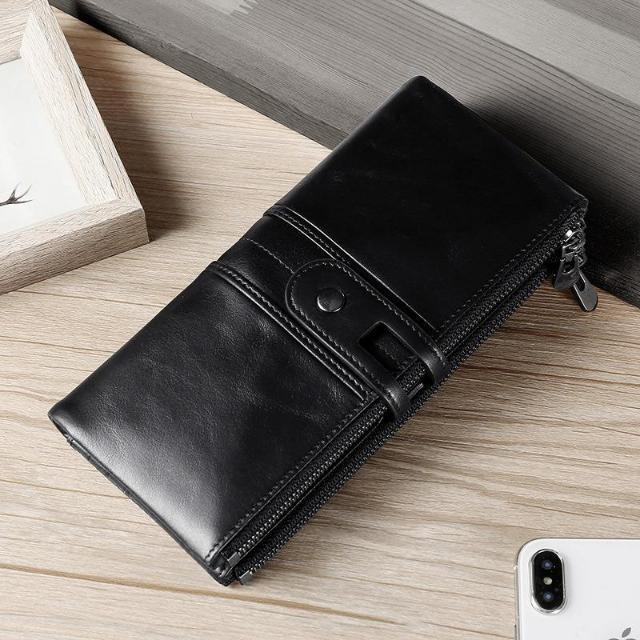wallet: (42, 72, 600, 590)
